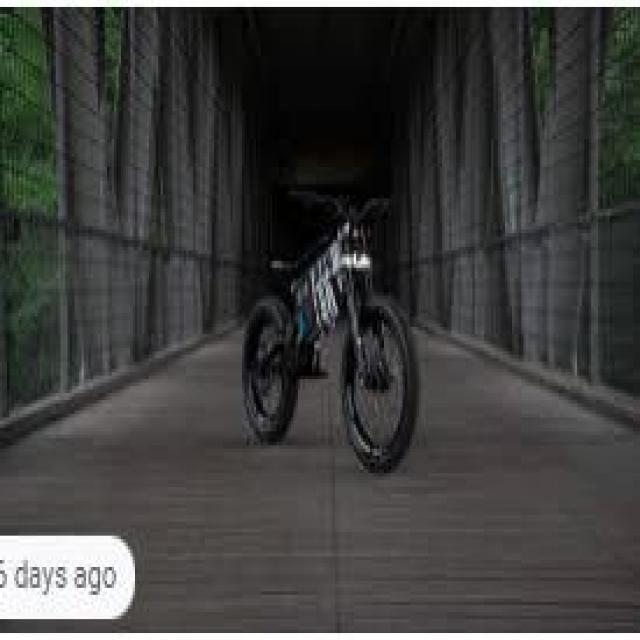bicycle: (241, 192, 420, 471)
